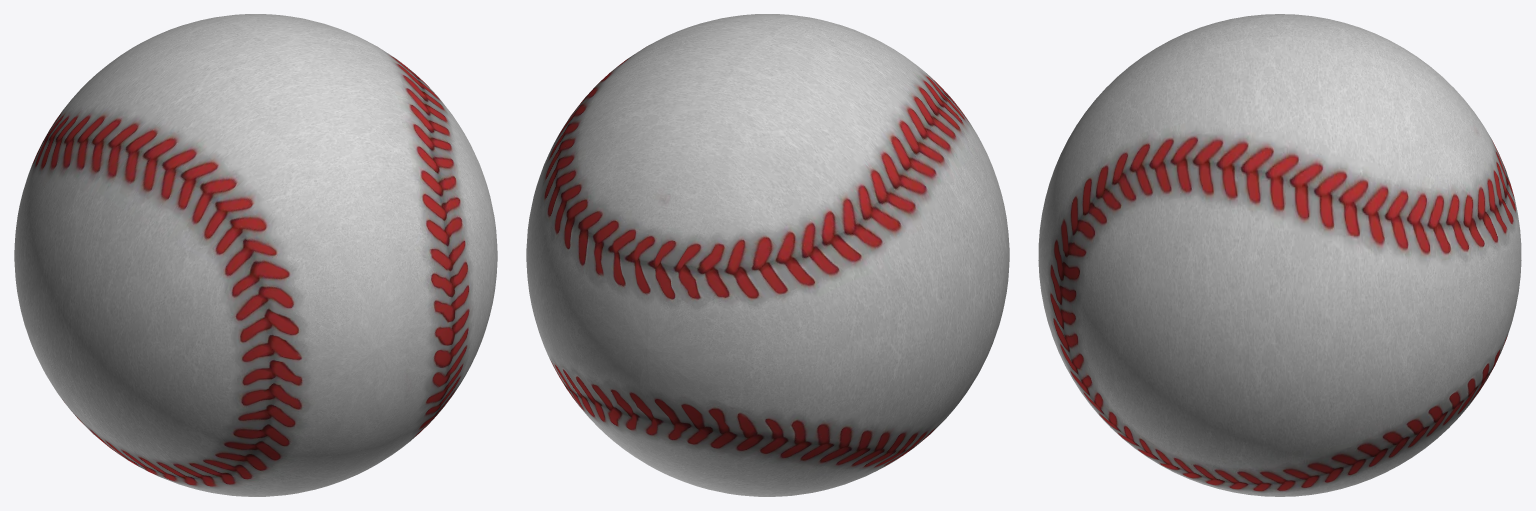
File: baseball_detail.glb
The picture shows the model from 3 angles, left to right: view 1: azimuth 30°, elevation 25°; view 2: azimuth 150°, elevation 25°; view 3: azimuth 270°, elevation 25°; orthographic projection.
Visible parts, largest first — view 1: baseball_spherified; view 2: baseball_spherified; view 3: baseball_spherified.
Part boxes in pixels (x1=…): baseball_spherified: x1=14, y1=14, x2=497, y2=496; baseball_spherified: x1=526, y1=14, x2=1009, y2=496; baseball_spherified: x1=1038, y1=14, x2=1521, y2=496.
Size of the model in its own units: 7.6 by 7.6 by 7.6.
1 material, 1 textured.
